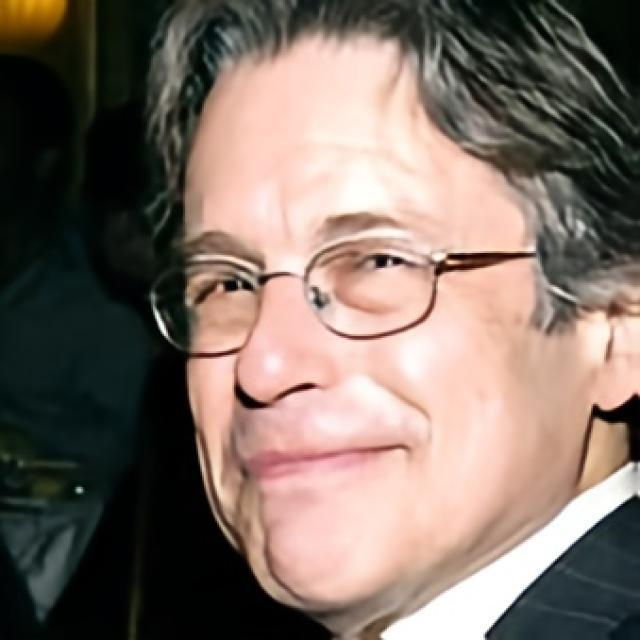happy: (179, 53, 566, 595)
